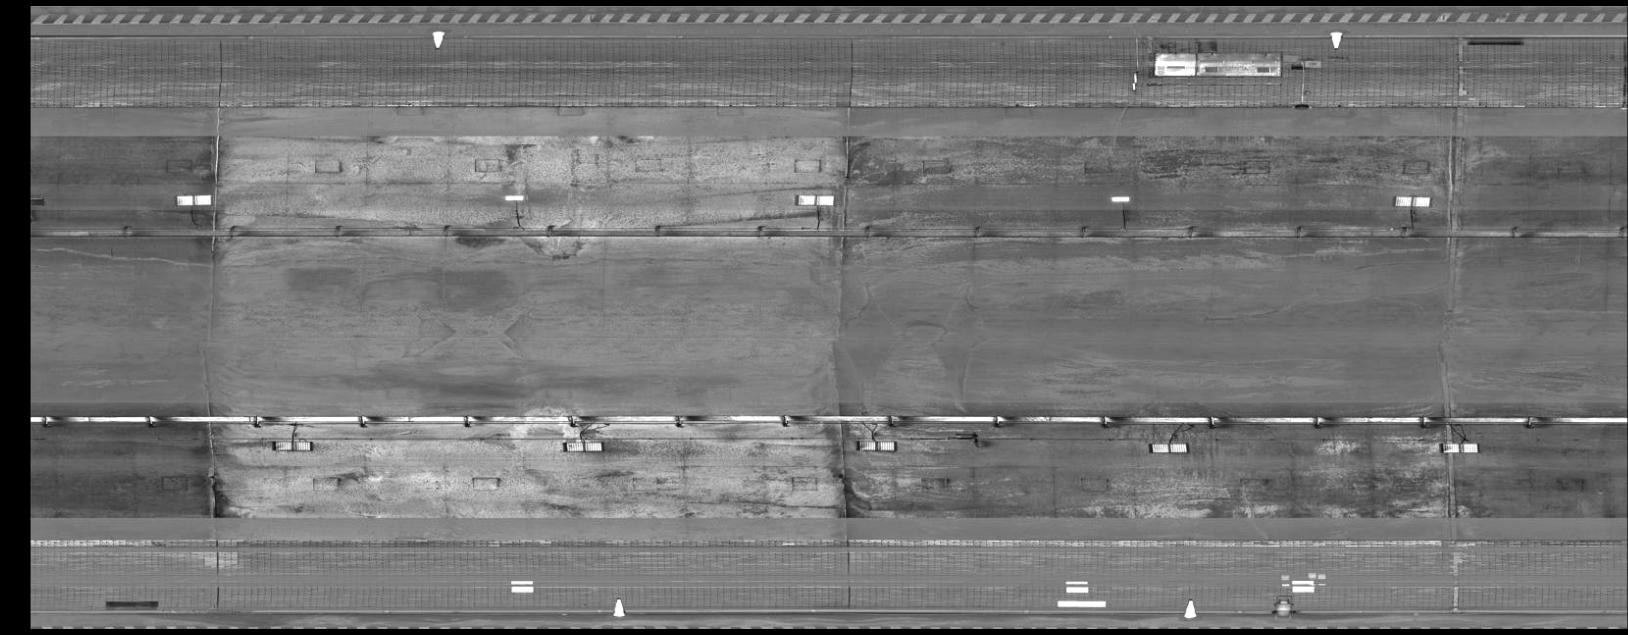light: (266, 436, 317, 455), (850, 436, 900, 455), (557, 438, 606, 457), (1143, 439, 1193, 458), (169, 190, 214, 208), (1388, 193, 1435, 210), (1436, 439, 1483, 455), (793, 191, 837, 208), (1105, 194, 1136, 204), (499, 193, 530, 203)
